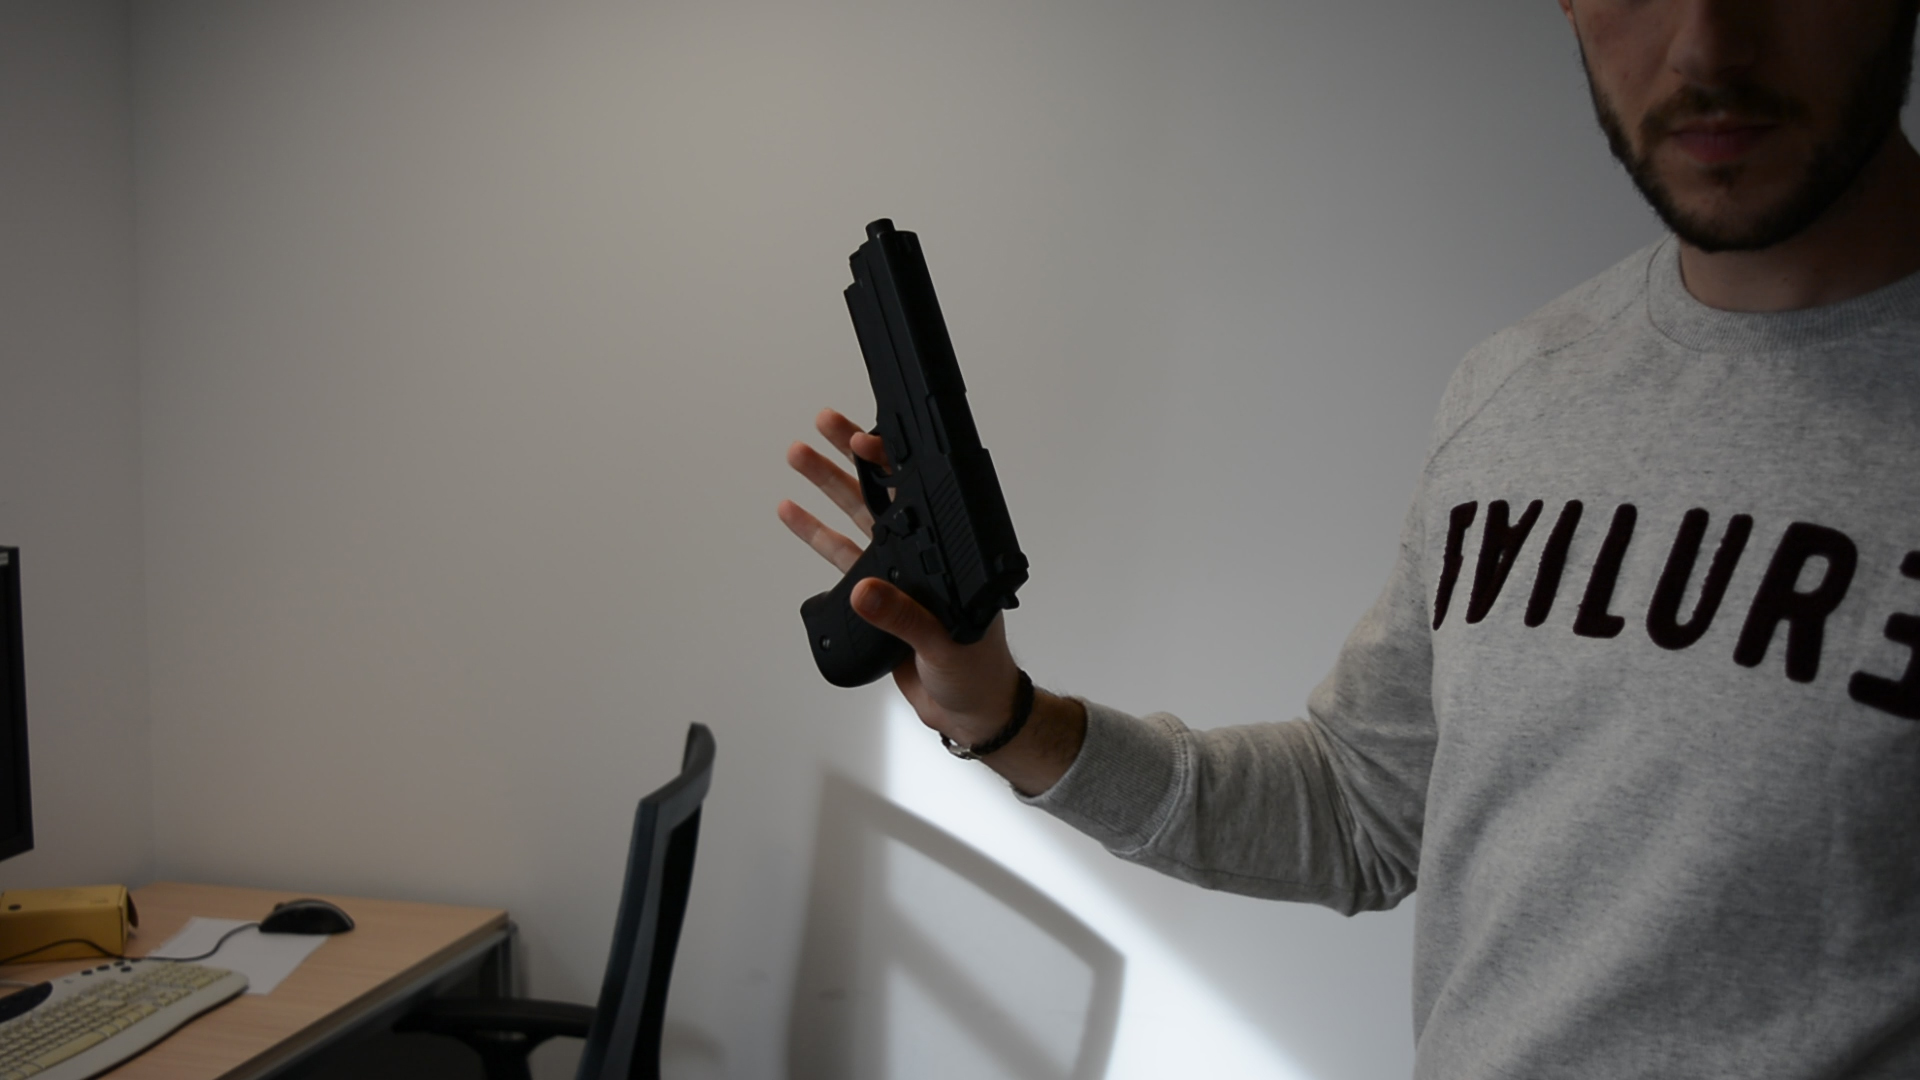pistol: (796, 215, 1033, 690)
